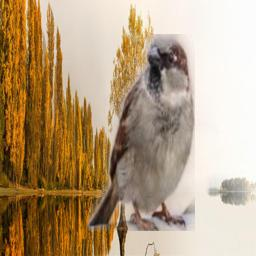Sparrow: (88, 34, 195, 231)
